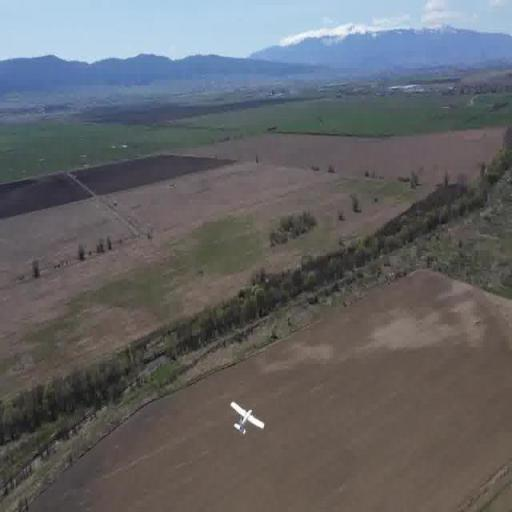uav: (227, 396, 266, 442)
